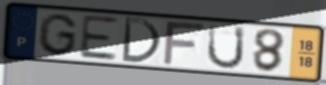8: (252, 27, 286, 74)
D: (119, 15, 163, 66)
E: (77, 13, 120, 62)
F: (160, 20, 208, 67)
G: (35, 12, 79, 58)
U: (205, 23, 247, 72)
